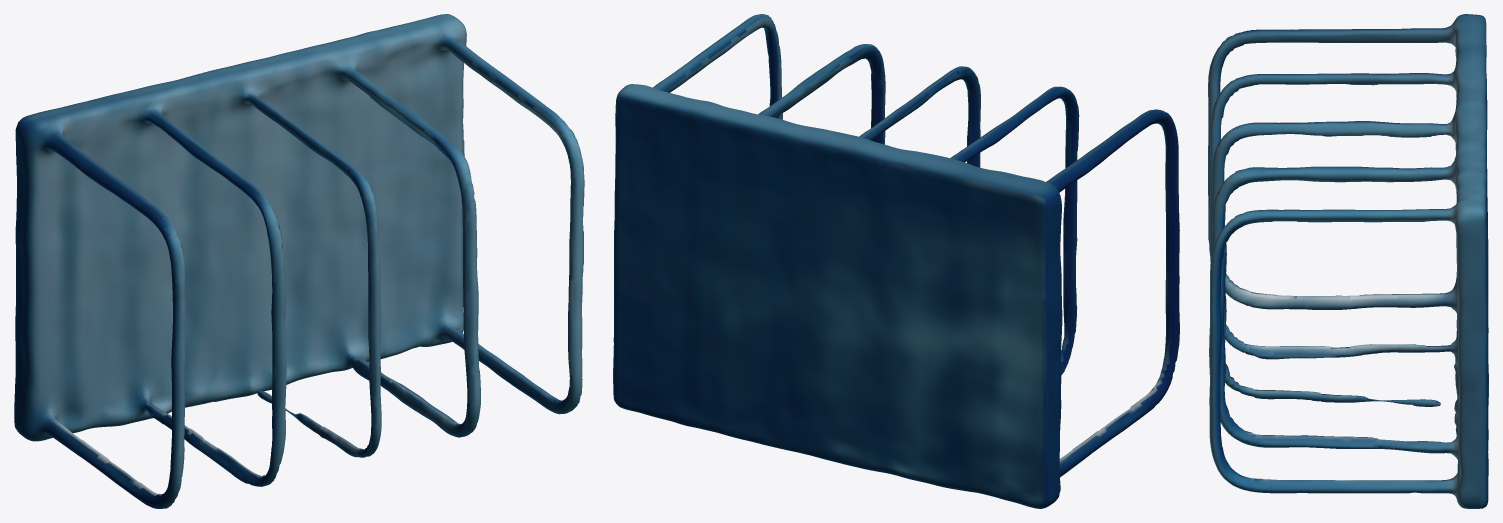
The model's file is sorter.glb.
3 views of the same model, side by side, from view 1: azimuth 30°, elevation 25°; view 2: azimuth 150°, elevation 25°; view 3: azimuth 270°, elevation 25° (orthographic). The views are drawn at different scales.
Size of the model in its own units: 0.9997 by 0.7048 by 0.5857.
